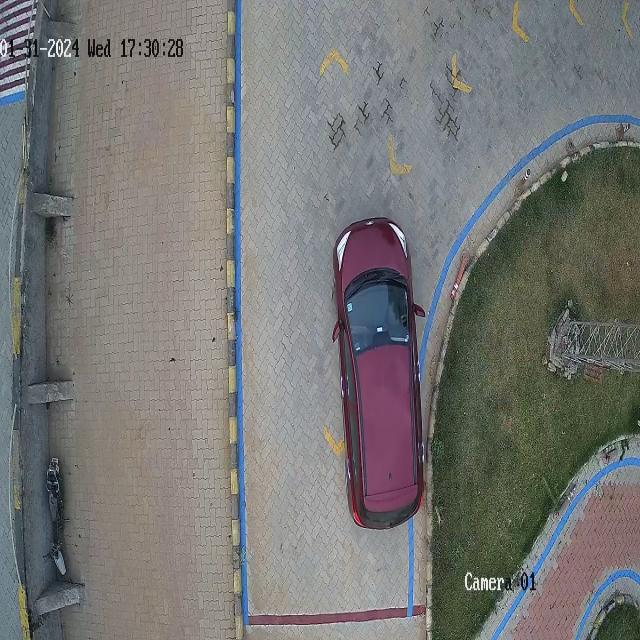car: (332, 218, 424, 529)
